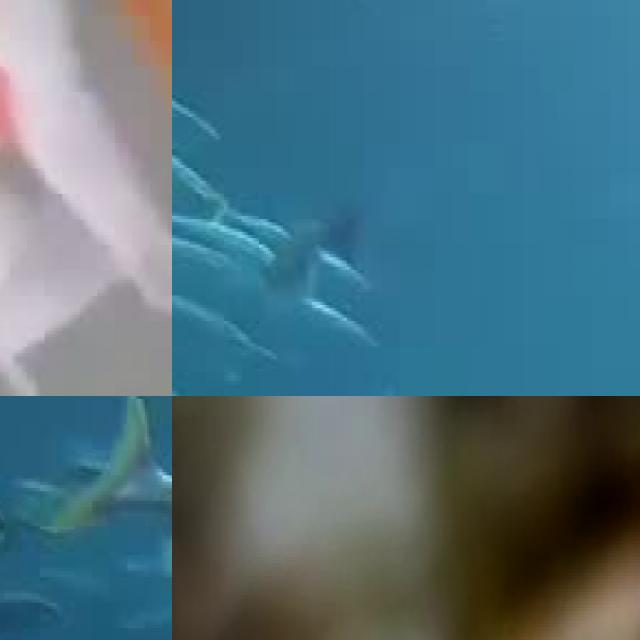fish: (0, 0, 172, 396), (76, 396, 172, 640)
